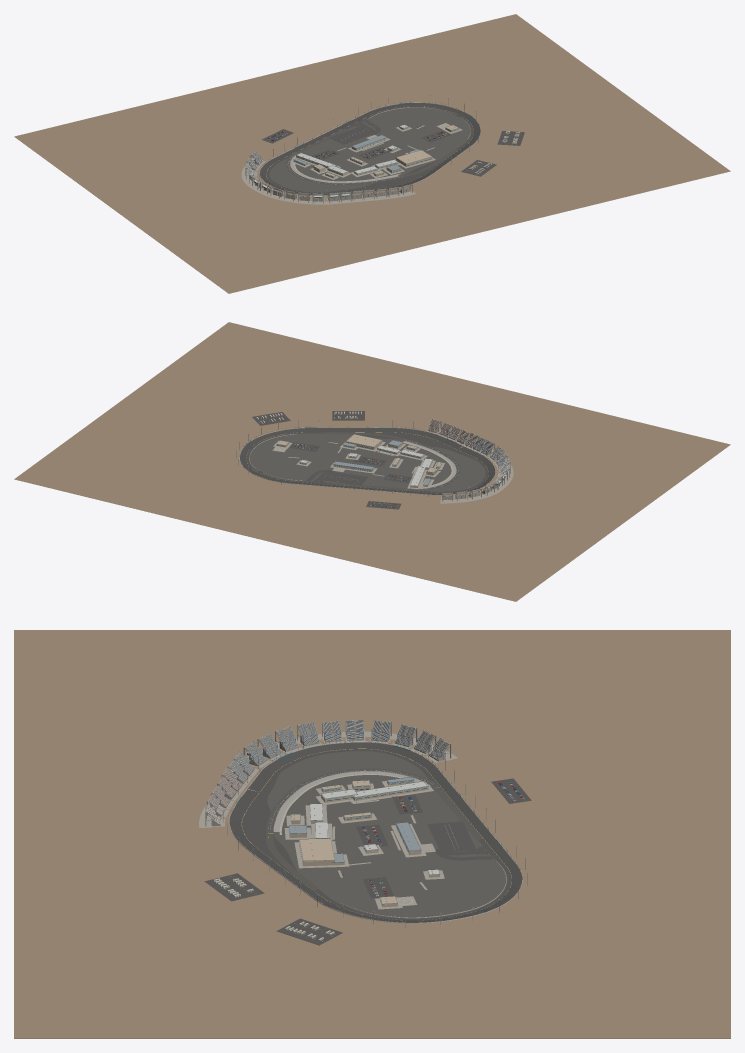
File: PhoenixRaceway.fbx
3 views of the same model, one above another, from view 1: azimuth 30°, elevation 25°; view 2: azimuth 150°, elevation 25°; view 3: azimuth 270°, elevation 25° (orthographic). The views are drawn at different scales.
Parts seen in each view (by area): view 1: Sonoran gravel site, Asphalt infield, Racing surface, Apron asphalt, Phoenix emergency access and 24-bay recovery yard, Phoenix continuous exterior grandstand concourse; view 2: Sonoran gravel site, Asphalt infield, Racing surface, Apron asphalt, Phoenix emergency access and 24-bay recovery yard, Outside continuous concrete wall; view 3: Sonoran gravel site, Asphalt infield, Racing surface, Apron asphalt, Phoenix emergency access and 24-bay recovery yard, Phoenix paddock operations building, Pit road asphalt, Outside continuous concrete wall, Phoenix east hospitality canopy, Phoenix exterior RV camp lot 2 paving and spaces, Phoenix exterior RV camp lot 1 paving and spaces, Phoenix 40-stall infield garage (+1 smaller).
Part boxes in pixels (box(x1,y1,x2,y2)): Sonoran gravel site: box(14, 14, 730, 293); Asphalt infield: box(269, 107, 471, 192); Racing surface: box(260, 103, 480, 195); Apron asphalt: box(266, 106, 473, 193); Phoenix emergency access and 24-bay recovery yard: box(330, 120, 380, 144); Phoenix continuous exterior grandstand concourse: box(241, 158, 416, 204); Sonoran gravel site: box(14, 322, 730, 601); Asphalt infield: box(249, 433, 485, 491); Racing surface: box(240, 428, 495, 494); Apron asphalt: box(246, 432, 488, 493); Phoenix emergency access and 24-bay recovery yard: box(305, 470, 367, 485); Outside continuous concrete wall: box(239, 427, 495, 495); Sonoran gravel site: box(14, 630, 730, 1038); Asphalt infield: box(267, 751, 507, 918); Racing surface: box(229, 742, 522, 922); Apron asphalt: box(242, 749, 511, 920); Phoenix emergency access and 24-bay recovery yard: box(427, 821, 492, 860); Phoenix paddock operations building: box(294, 838, 337, 868); Pit road asphalt: box(266, 768, 444, 838); Outside continuous concrete wall: box(229, 741, 522, 923); Phoenix east hospitality canopy: box(350, 781, 433, 803); Phoenix exterior RV camp lot 2 paving and spaces: box(276, 918, 342, 945); Phoenix exterior RV camp lot 1 paving and spaces: box(204, 873, 264, 901); Phoenix 40-stall infield garage: box(391, 822, 426, 857).
Size of the model in its own units: 143000 by 2602 by 106000.
